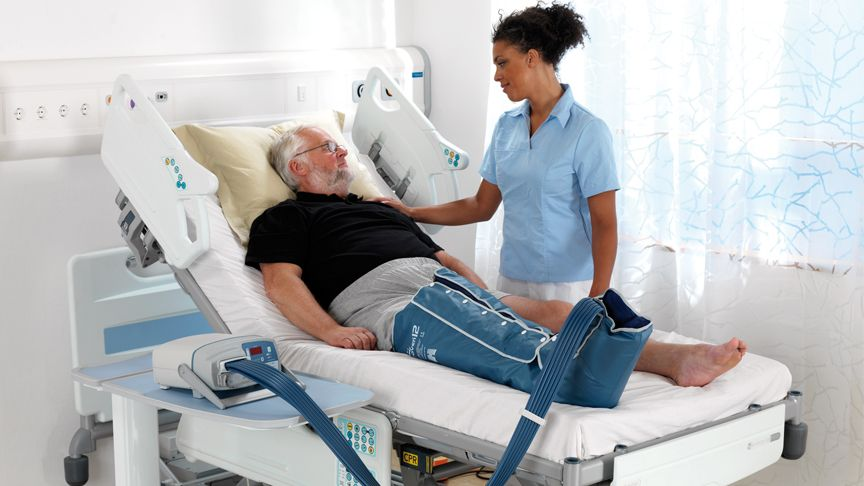bedrail: (99, 71, 222, 274), (350, 64, 471, 240), (164, 395, 397, 485)
hospital_bed: (100, 63, 810, 486)
overbed_table: (70, 351, 377, 486)
patient: (243, 124, 748, 415)
sequential_compression: (151, 283, 657, 483)
staff: (368, 1, 619, 310)
